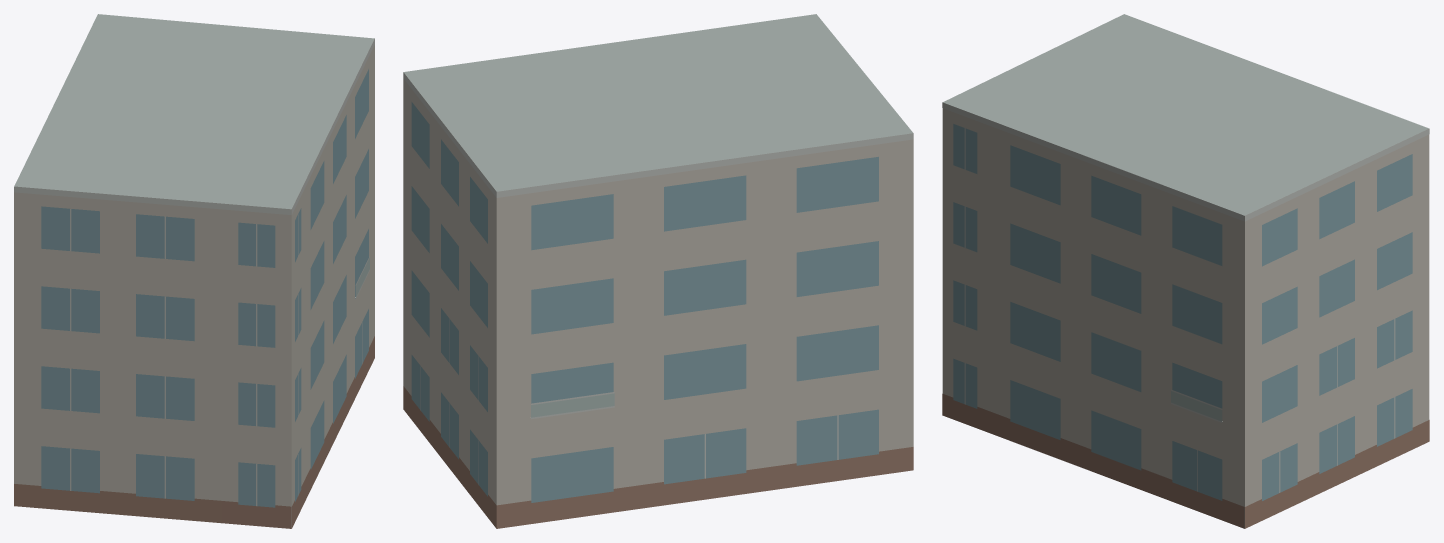
Rendered from survey-upis-32941347.glb.
The picture shows the model from 3 angles, left to right: view 1: azimuth 30°, elevation 25°; view 2: azimuth 150°, elevation 25°; view 3: azimuth 270°, elevation 25°; orthographic projection. The views are drawn at different scales.
Parts seen in each view (by area): view 1: survey-upis-32941347.tmp; view 2: survey-upis-32941347.tmp; view 3: survey-upis-32941347.tmp.
Boxes of the visible parts, x1=… form: survey-upis-32941347.tmp: x1=14, y1=14, x2=374, y2=528; survey-upis-32941347.tmp: x1=403, y1=14, x2=913, y2=528; survey-upis-32941347.tmp: x1=942, y1=14, x2=1429, y2=528.
Bounding box in the file's own units: 18.26 × 13.2 × 18.61.
